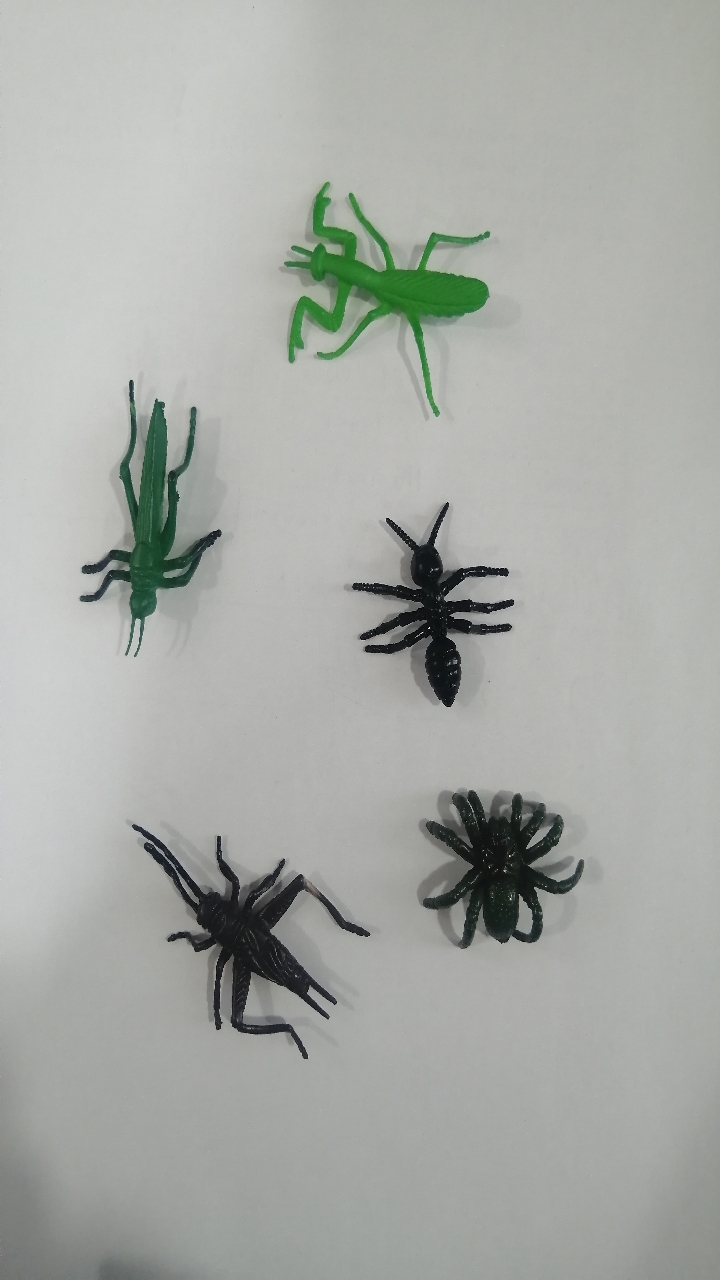intruso: (220, 128, 520, 432), (97, 777, 383, 1086), (311, 445, 566, 748), (43, 349, 238, 685), (380, 745, 604, 986)
